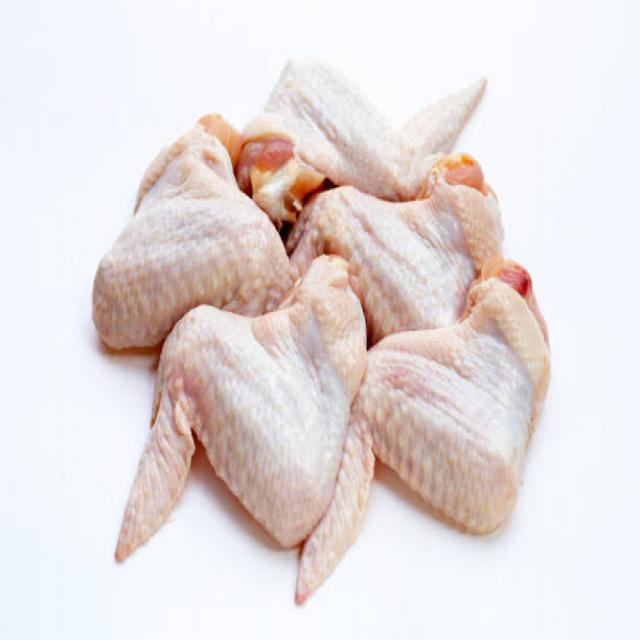chicken wing: (317, 331, 536, 612), (108, 306, 328, 566), (251, 45, 490, 197)
